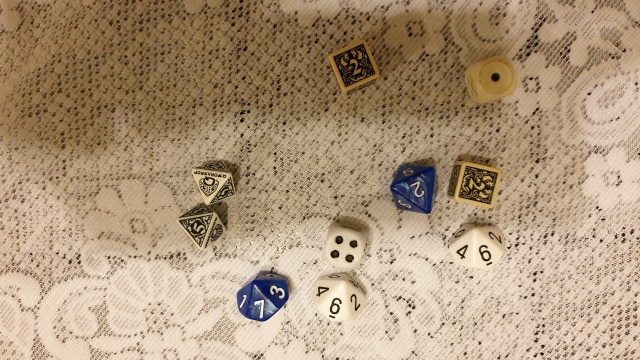d10-2: (383, 158, 437, 219)
d10-6: (445, 216, 511, 276), (308, 268, 370, 329)
d10-7: (233, 266, 298, 329)
d6-1: (461, 52, 519, 106)
d6-4: (320, 219, 364, 271)
d6p-2: (328, 40, 385, 96), (446, 158, 499, 211)
d8p-5: (174, 204, 236, 251)
d8p-8: (184, 156, 242, 208)
